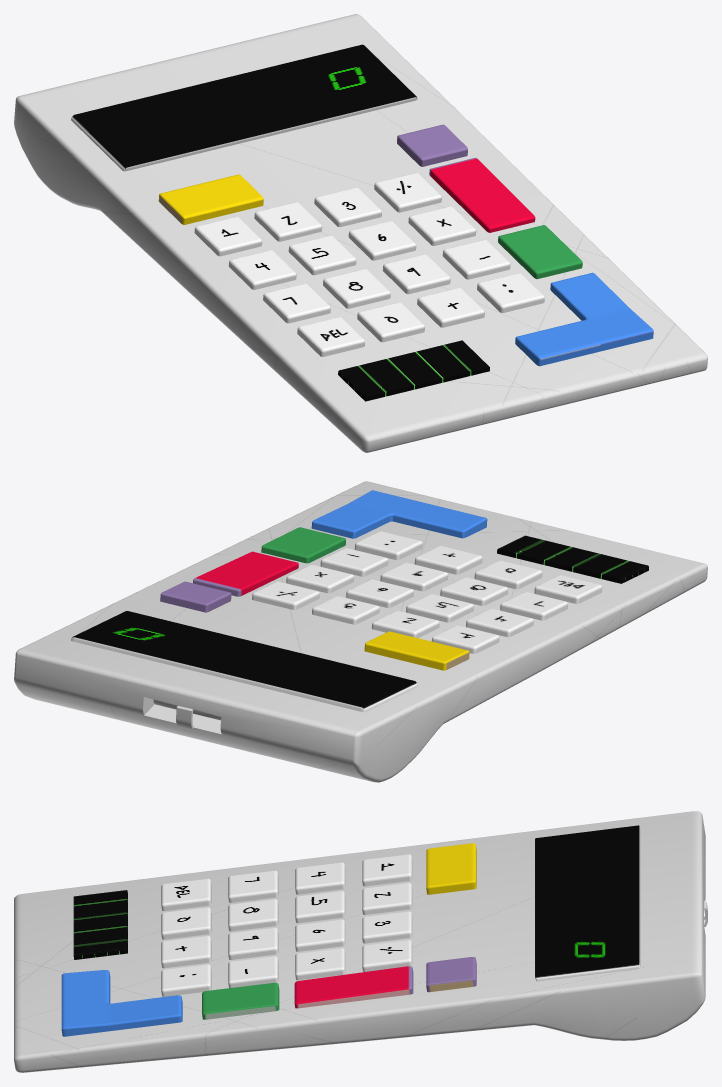
Rendered from project-01.glb.
The picture shows the model from 3 angles, top to bottom: view 1: azimuth 30°, elevation 25°; view 2: azimuth 150°, elevation 25°; view 3: azimuth 270°, elevation 25°; orthographic projection. The views are drawn at different scales.
Visible parts, largest first — view 1: base, keys, screen, alt keys, sensor; view 2: base, keys, screen, alt keys, sensor; view 3: base, keys, screen, alt keys, sensor.
Boxes of the visible parts, box(x1,y1,x2,y2) form: base: box(14, 14, 707, 452); keys: box(194, 172, 544, 356); screen: box(71, 44, 417, 171); alt keys: box(158, 124, 653, 366); sensor: box(338, 340, 489, 401); base: box(14, 481, 707, 782); keys: box(252, 531, 602, 653); screen: box(71, 611, 417, 712); alt keys: box(160, 490, 487, 670); sensor: box(497, 535, 648, 583); base: box(14, 811, 707, 1072); keys: box(161, 854, 412, 996); screen: box(535, 825, 640, 981); alt keys: box(61, 843, 476, 1036); sensor: box(73, 890, 127, 959).
Size of the model in its own units: 2 by 0.5697 by 3.57.
5 materials, 5 textured.
